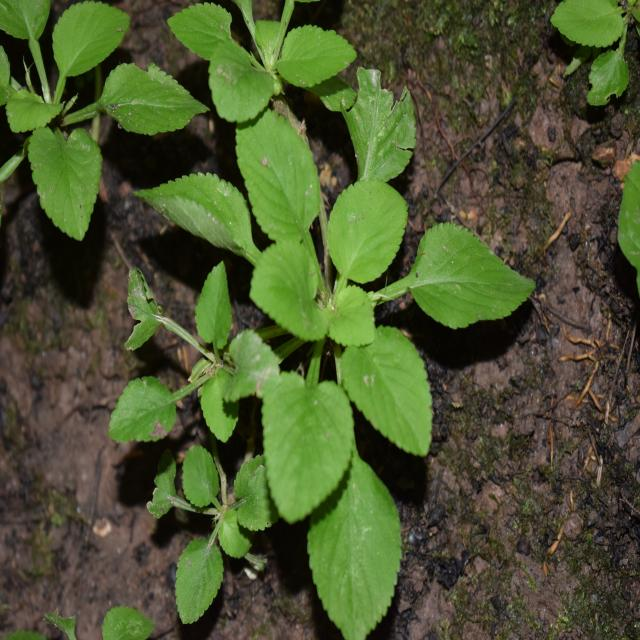Viola: (149, 115, 491, 585), (0, 0, 178, 258), (172, 0, 359, 168)
